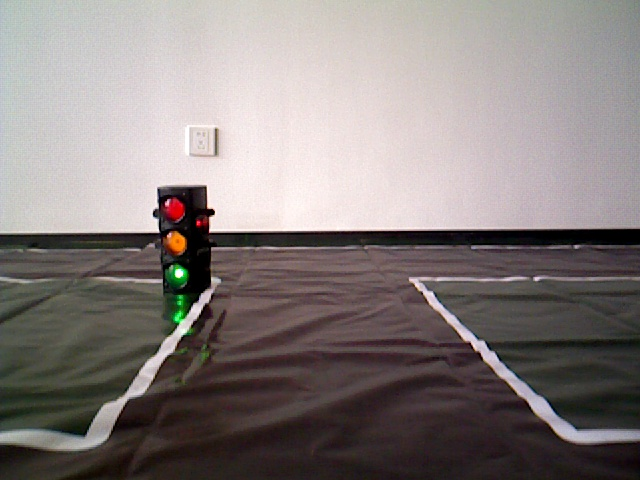green: (158, 191, 206, 282)
